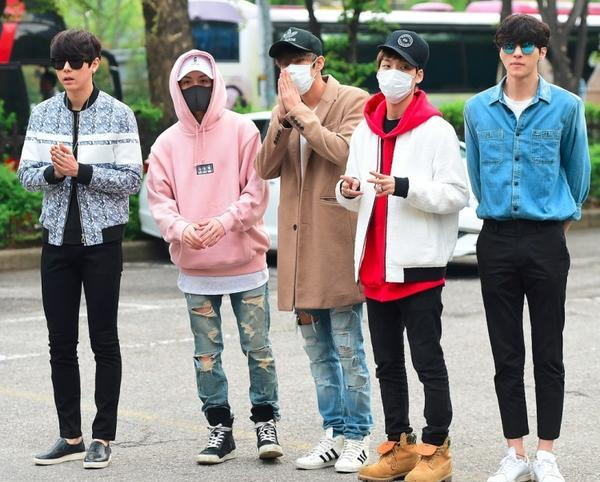NONE: (500, 35, 542, 78), (56, 50, 93, 93)
OK: (378, 55, 423, 100), (177, 71, 218, 112), (282, 55, 320, 95)
